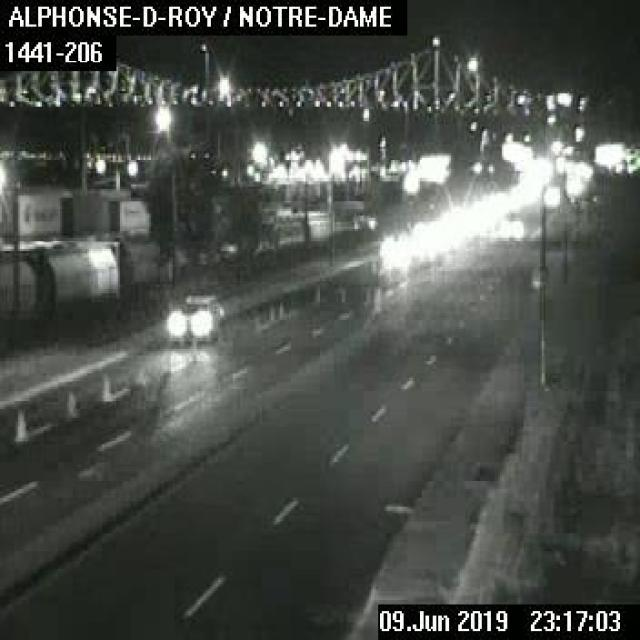vehicle: (162, 289, 224, 342)
